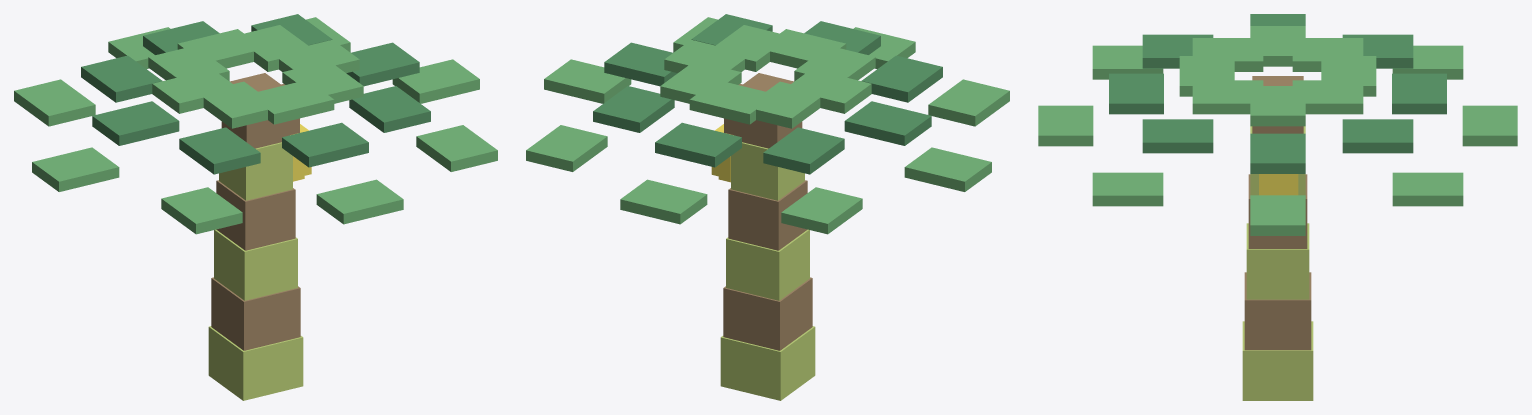
The model's file is macacos_bananeira.glb.
3 renders of one model, left to right at view 1: azimuth 30°, elevation 25°; view 2: azimuth 150°, elevation 25°; view 3: azimuth 270°, elevation 25°, orthographic.
Visible parts, largest first — view 1: macacos_bananeira; view 2: macacos_bananeira; view 3: macacos_bananeira.
Boxes of the visible parts, box(x1,y1,x2,y2) form: macacos_bananeira: box(14, 14, 497, 400); macacos_bananeira: box(526, 14, 1009, 400); macacos_bananeira: box(1038, 14, 1517, 400).
Bounding box in the file's own units: 6.3 × 4.42 × 6.1.
